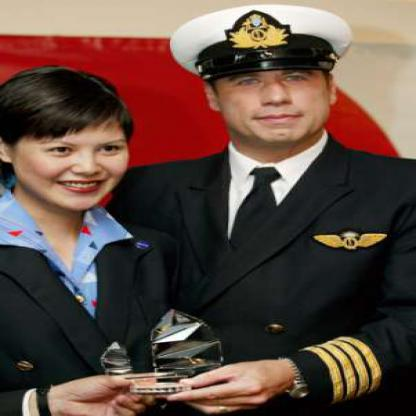face: (12, 79, 135, 213), (213, 17, 336, 146)
